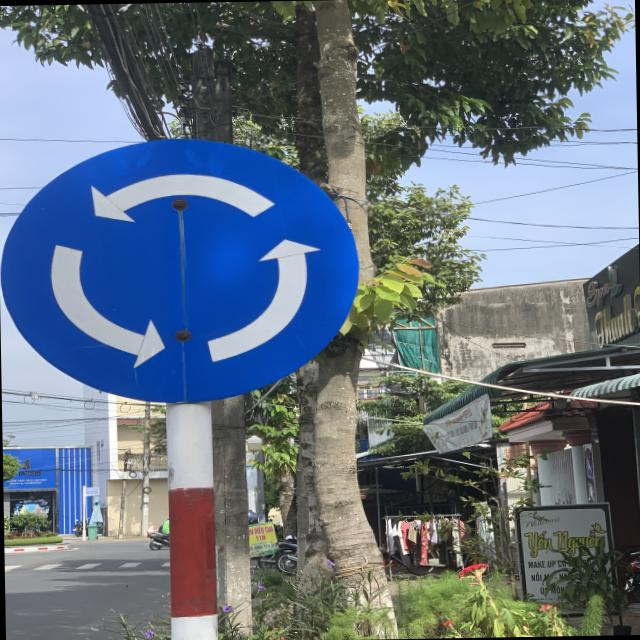Xe_Bus: (0, 128, 368, 404)
